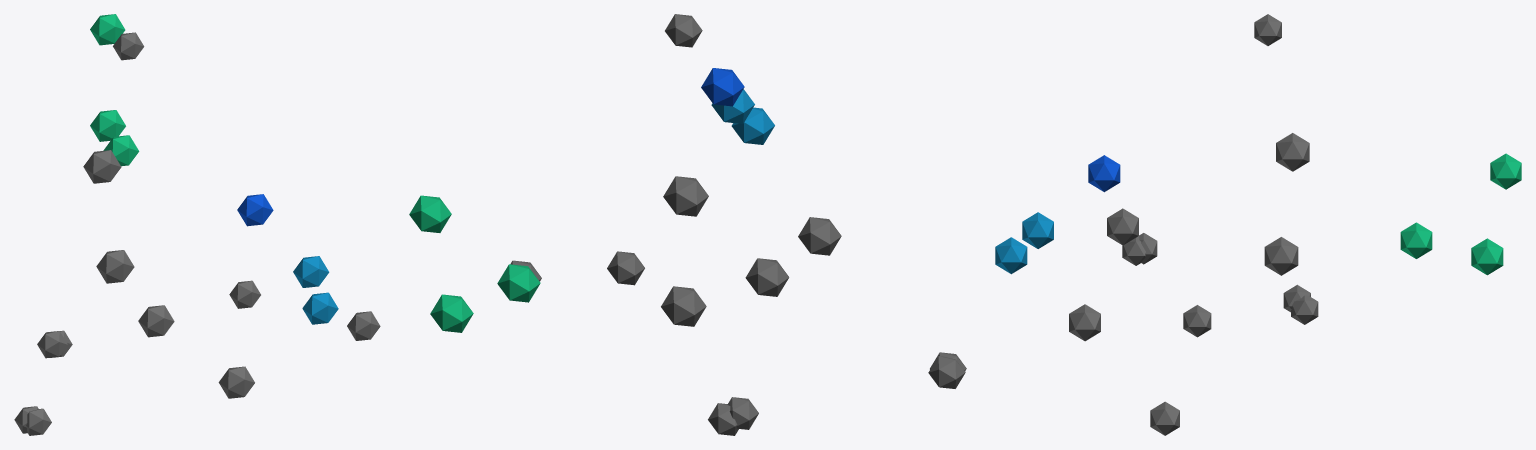
3 views of the same model, side by side, from view 1: azimuth 30°, elevation 25°; view 2: azimuth 150°, elevation 25°; view 3: azimuth 270°, elevation 25° (orthographic). The views are drawn at different scales.
Visible parts, largest first — view 1: 08_03_00; view 2: 08_03_00; view 3: 08_03_00.
Part boxes in pixels (x1=…): 08_03_00: x1=14, y1=14, x2=380, y2=435; 08_03_00: x1=409, y1=14, x2=966, y2=435; 08_03_00: x1=995, y1=14, x2=1521, y2=435.
Bounding box in the file's own units: 0.4819 × 0.403 × 0.5812.
